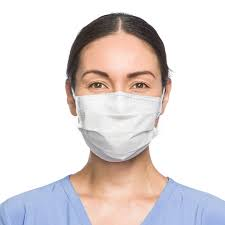Mask: (73, 40, 162, 162)
